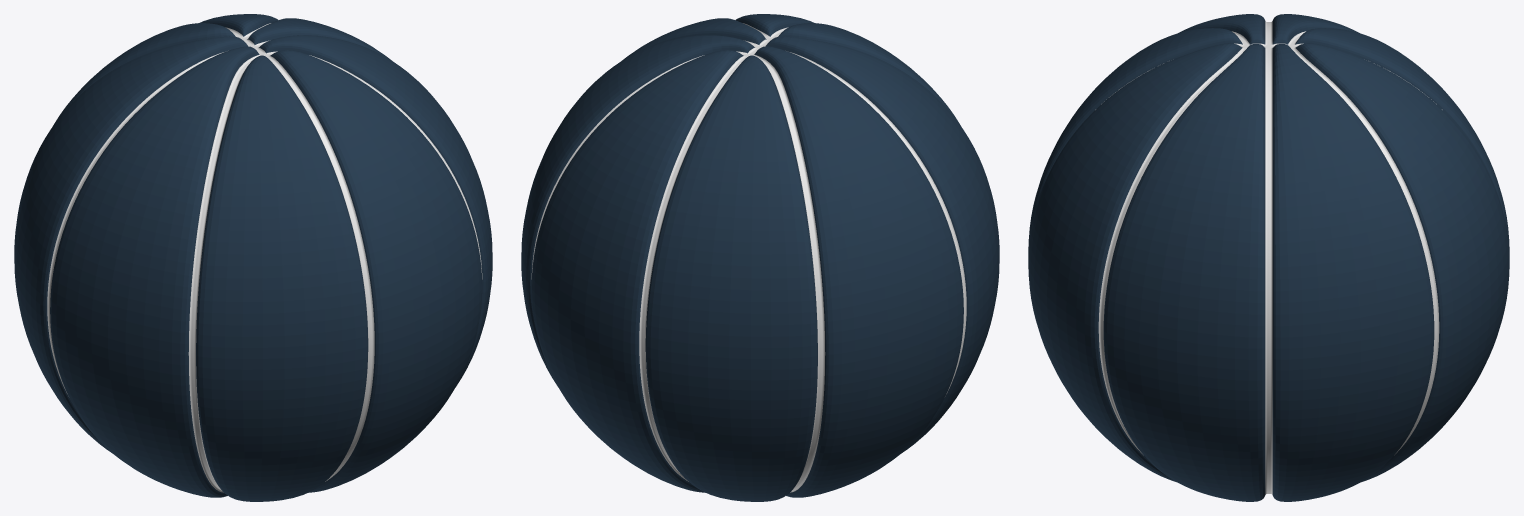
The model's file is neonball.fbx.
3 renders of one model, left to right at view 1: azimuth 30°, elevation 25°; view 2: azimuth 150°, elevation 25°; view 3: azimuth 270°, elevation 25°, orthographic.
Visible parts, largest first — view 1: Sphere; view 2: Sphere; view 3: Sphere.
Boxes of the visible parts, <box> form: Sphere: <box>14,14,492,501</box>; Sphere: <box>521,14,999,501</box>; Sphere: <box>1028,14,1509,501</box>.
Bounding box in the file's own units: 194 × 196 × 194.
